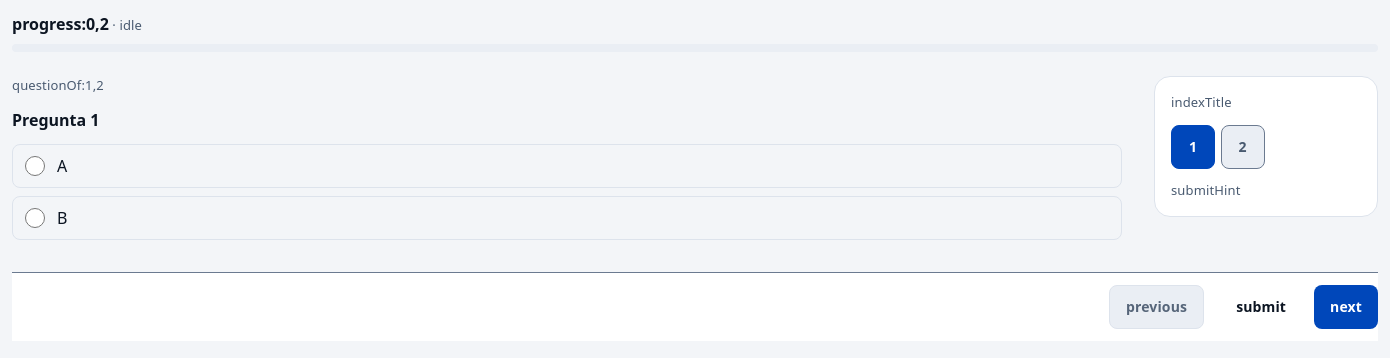
AttemptPlayer en curso › Siguiente y Anterior cambian la pregunta; la primera no tiene Anterior
Expected: the button "previous" is disabled, [1109, 284, 1204, 328]
Click the button "next".
click(1346, 306)  # box [1314, 284, 1378, 328]
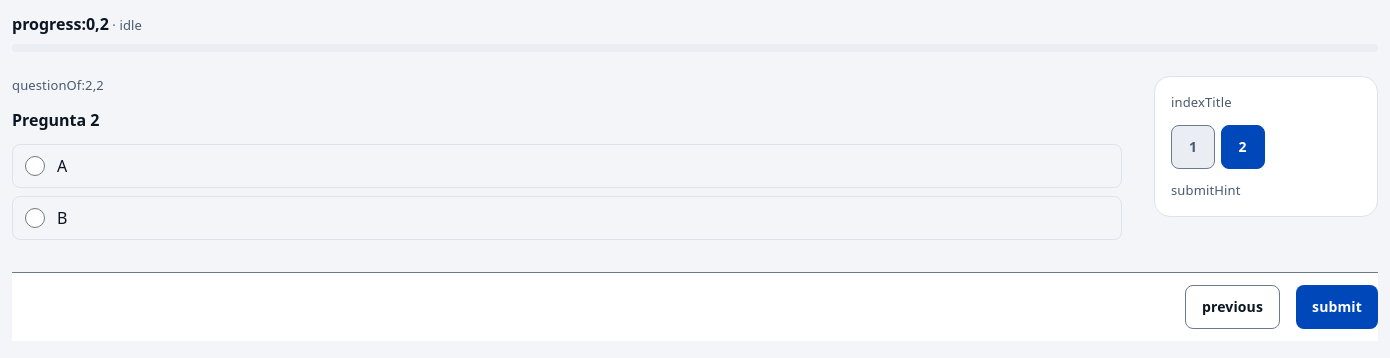
Result: the text "Pregunta 2" is shown at [12, 108, 100, 130]
Result: the text "Pregunta 1" is gone
Result: the button "next" is gone
Click the button "previous".
click(1232, 306)  # box [1185, 284, 1280, 328]
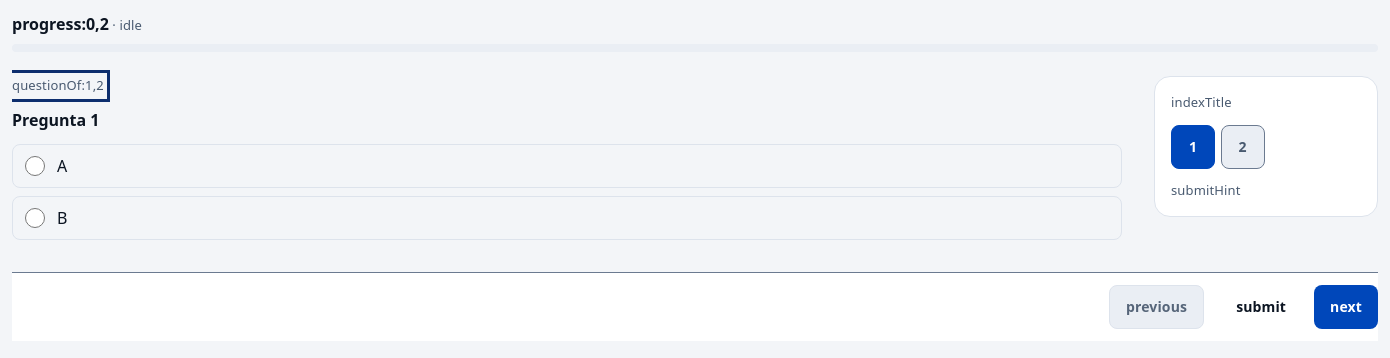
Result: the text "Pregunta 1" is shown at [12, 108, 100, 130]
